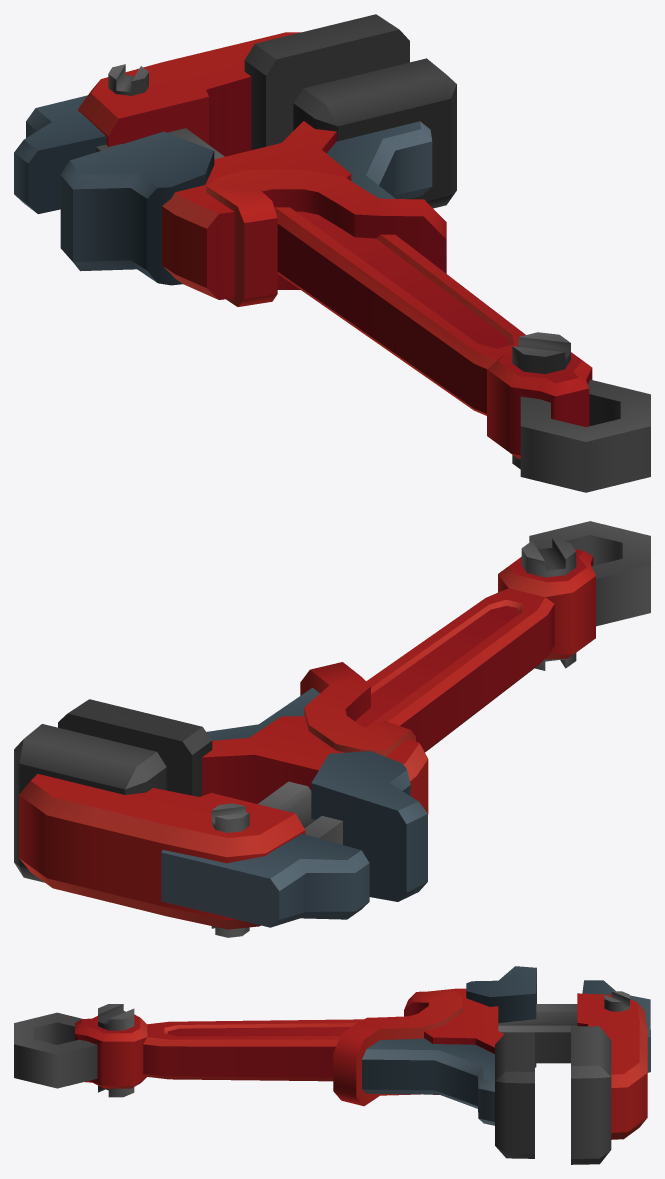
Rendered from Melee_Wrench.fbx.
3 renders of one model, top to bottom at view 1: azimuth 30°, elevation 25°; view 2: azimuth 150°, elevation 25°; view 3: azimuth 270°, elevation 25°, orthographic. The views are drawn at different scales.
Visible parts, largest first — view 1: Melee_Wrench; view 2: Melee_Wrench; view 3: Melee_Wrench.
Part boxes in pixels (x1,y1,x2,y2): Melee_Wrench: [14, 14, 650, 492]; Melee_Wrench: [14, 521, 650, 937]; Melee_Wrench: [14, 966, 650, 1164].
Bounding box in the file's own units: 0.4529 × 0.169 × 0.9886.
